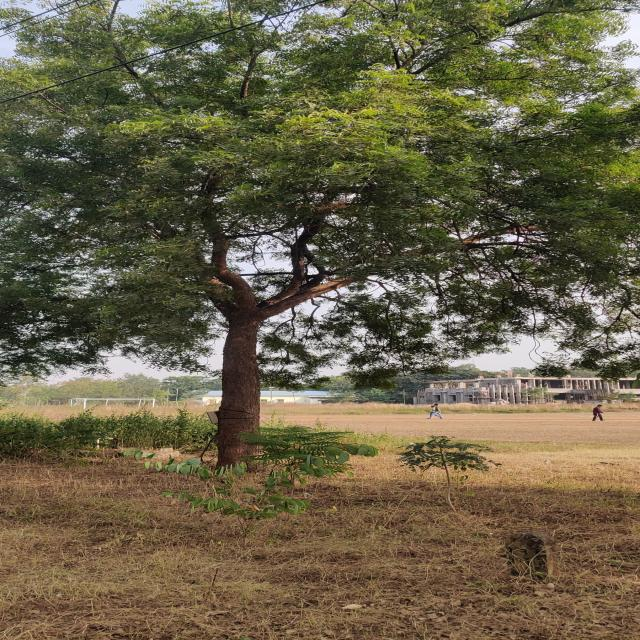Neem Tree: (71, 15, 590, 460)
